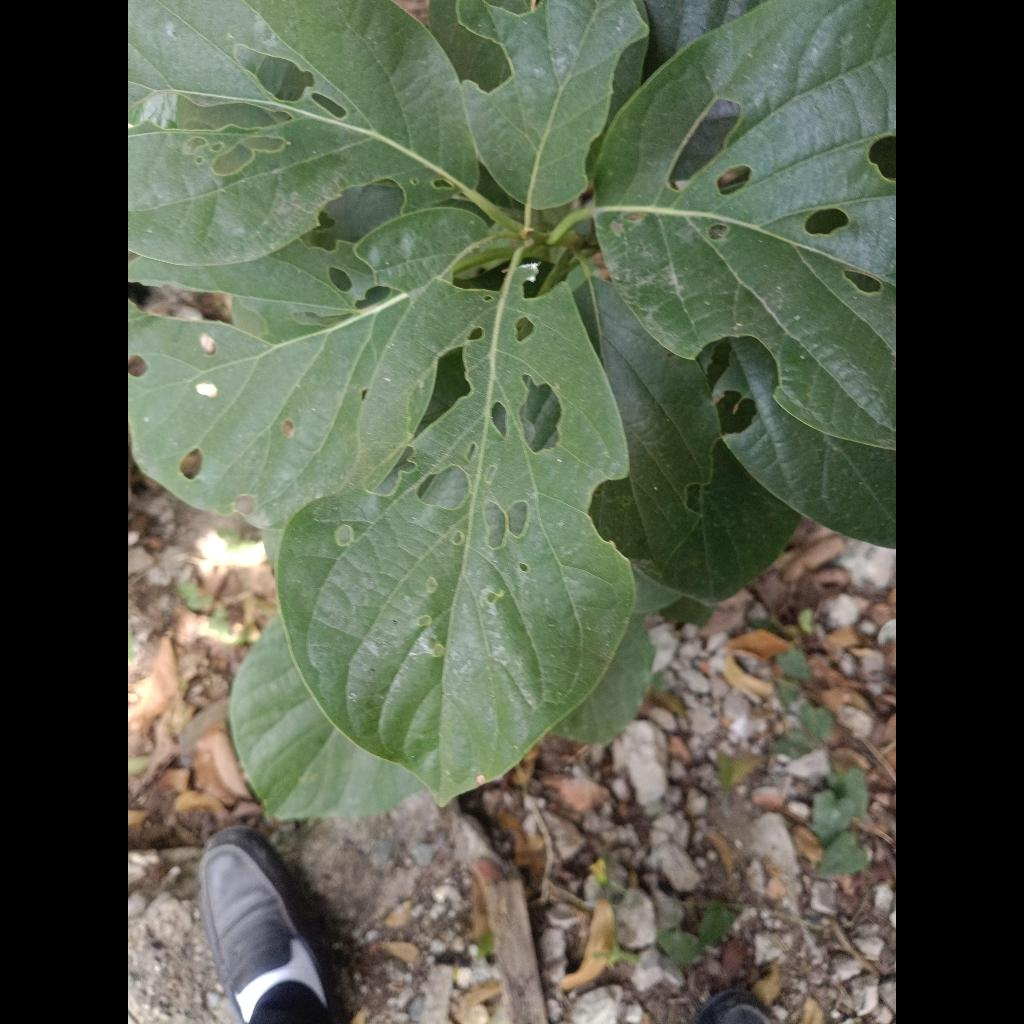Pest Infested: (276, 257, 634, 802), (594, 0, 896, 448), (128, 0, 478, 261)
